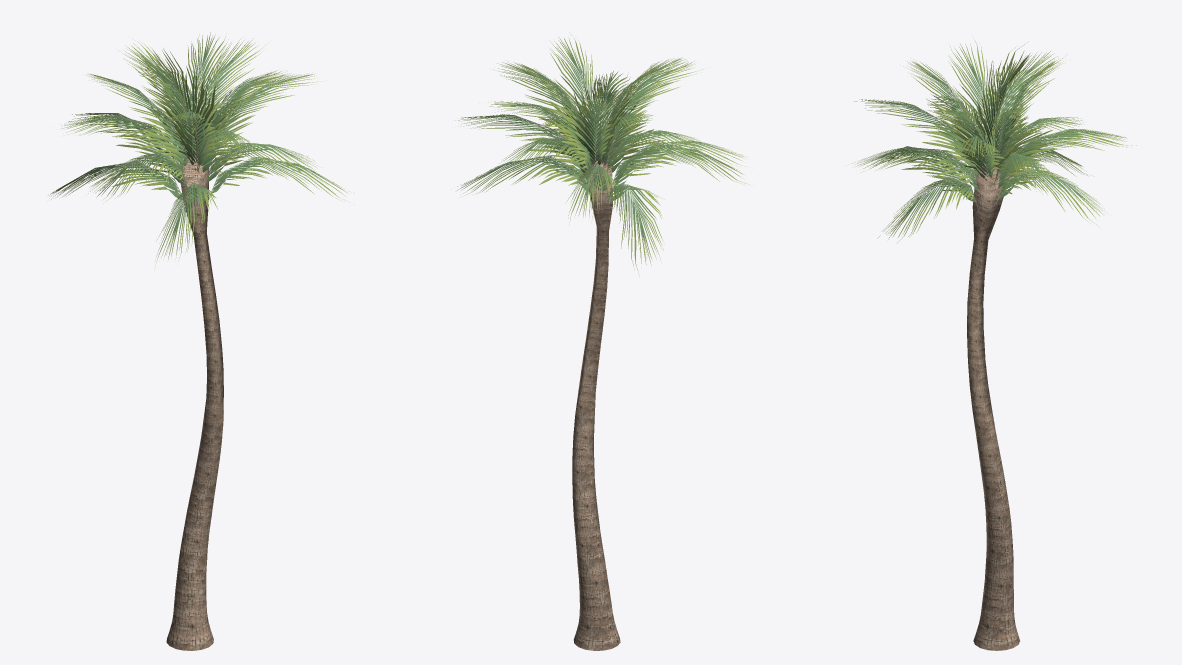
The model's file is palm_coconut_3.glb.
3 views of the same model, side by side, from view 1: azimuth 30°, elevation 25°; view 2: azimuth 150°, elevation 25°; view 3: azimuth 270°, elevation 25° (orthographic). The views are drawn at different scales.
Visible parts, largest first — view 1: prop; view 2: prop; view 3: prop.
Part boxes in pixels (left/top/right/bottom): prop: left=50, top=32, right=354, bottom=650; prop: left=455, top=32, right=749, bottom=650; prop: left=851, top=40, right=1136, bottom=650.
Bounding box in the file's own units: 8.05 × 15.1 × 8.17.
Materials: 2 (2 with a texture image).
